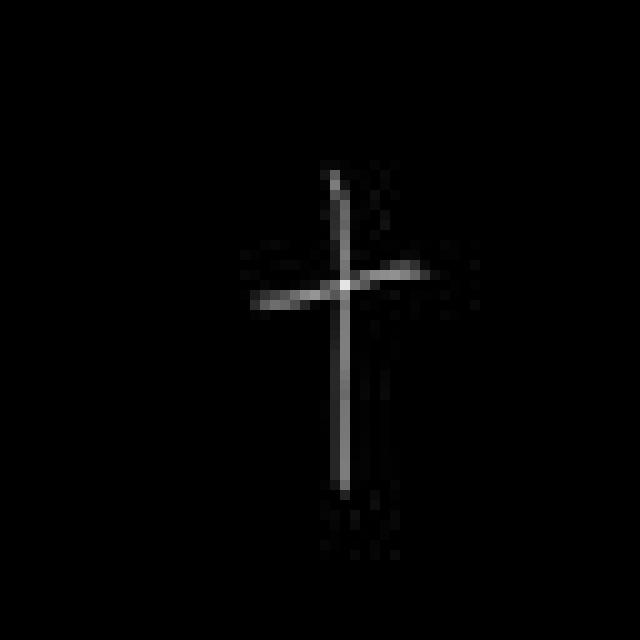10 -ten-: (245, 161, 437, 502)
